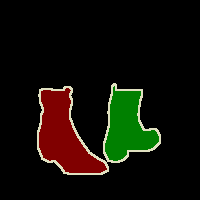shoe: (38, 86, 108, 174), (104, 83, 160, 162)
